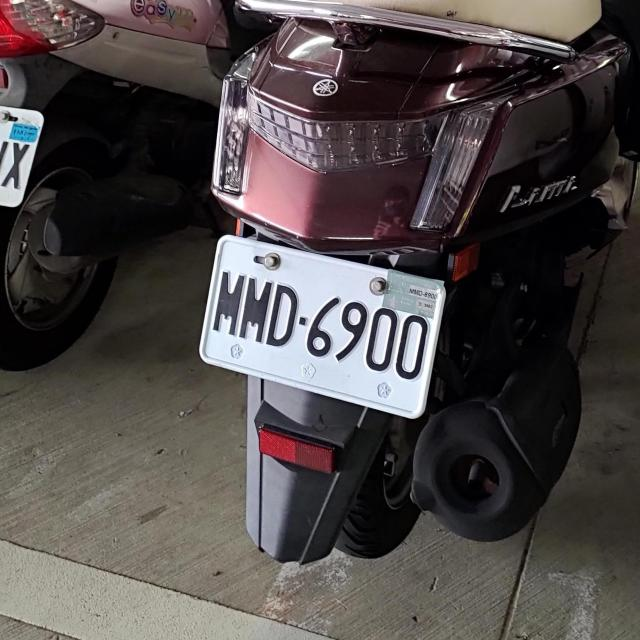W: (192, 232, 448, 419), (0, 80, 46, 210)
